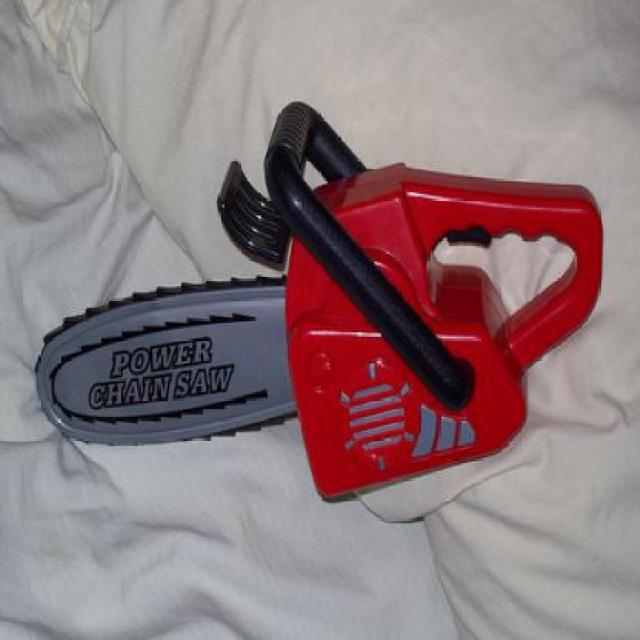Chainsaw: (33, 103, 604, 508)
